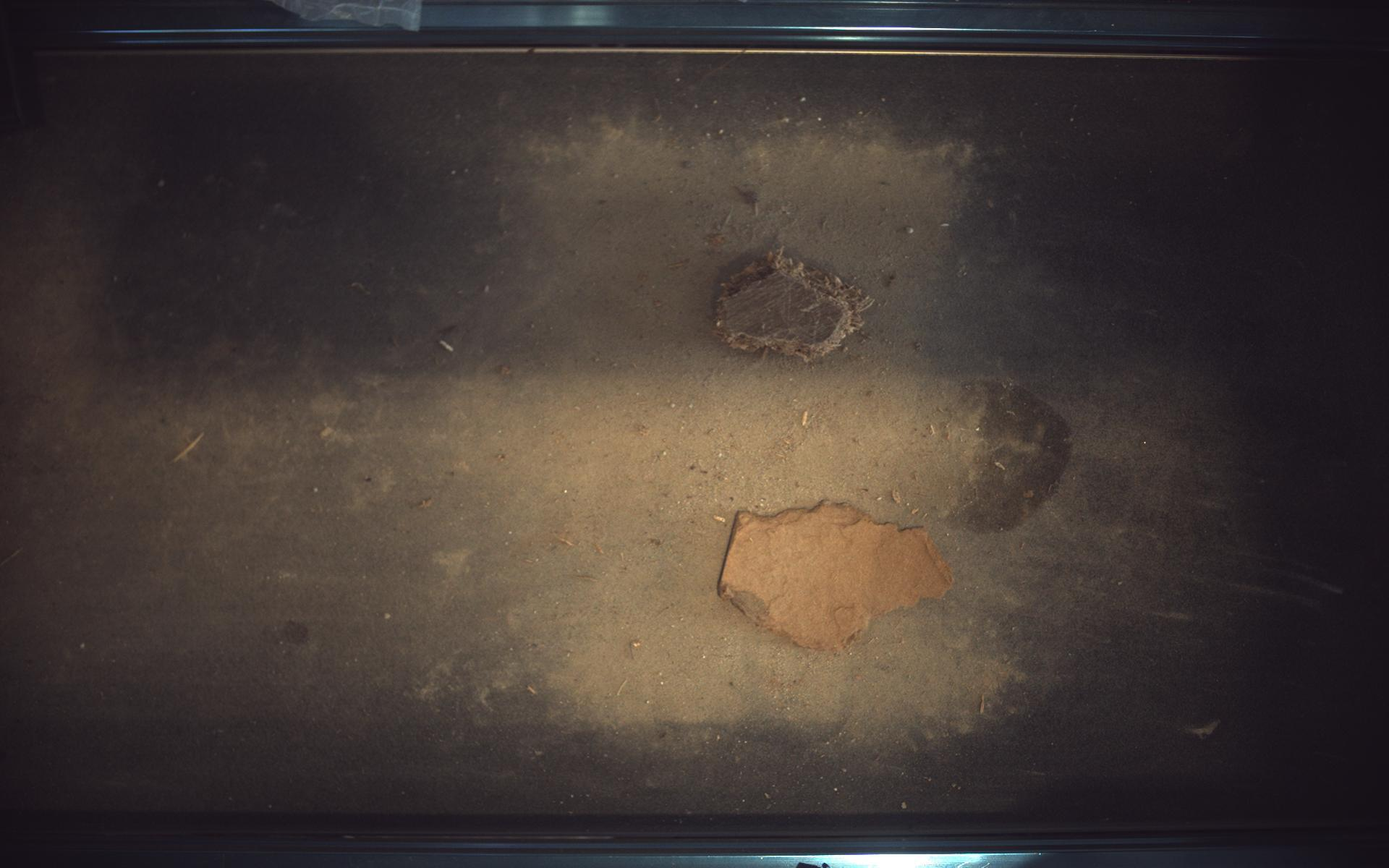wood: (720, 503, 954, 652), (717, 249, 875, 361)
